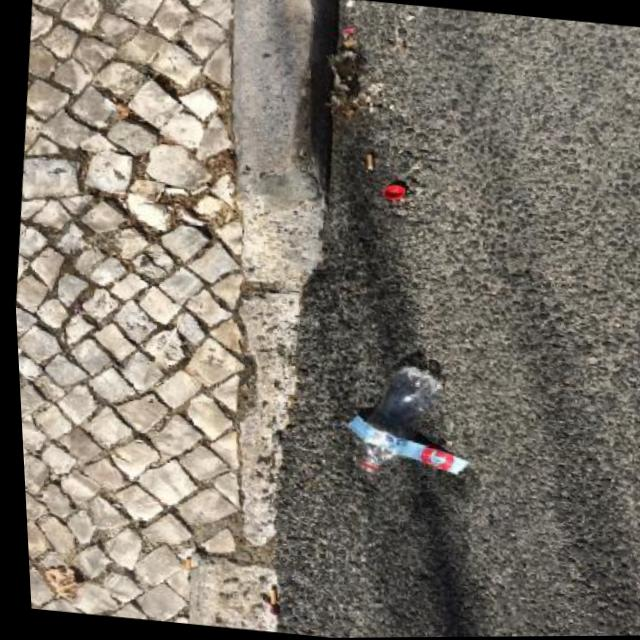other: (366, 154, 375, 170)
plastic: (340, 358, 480, 484), (382, 183, 406, 201)
